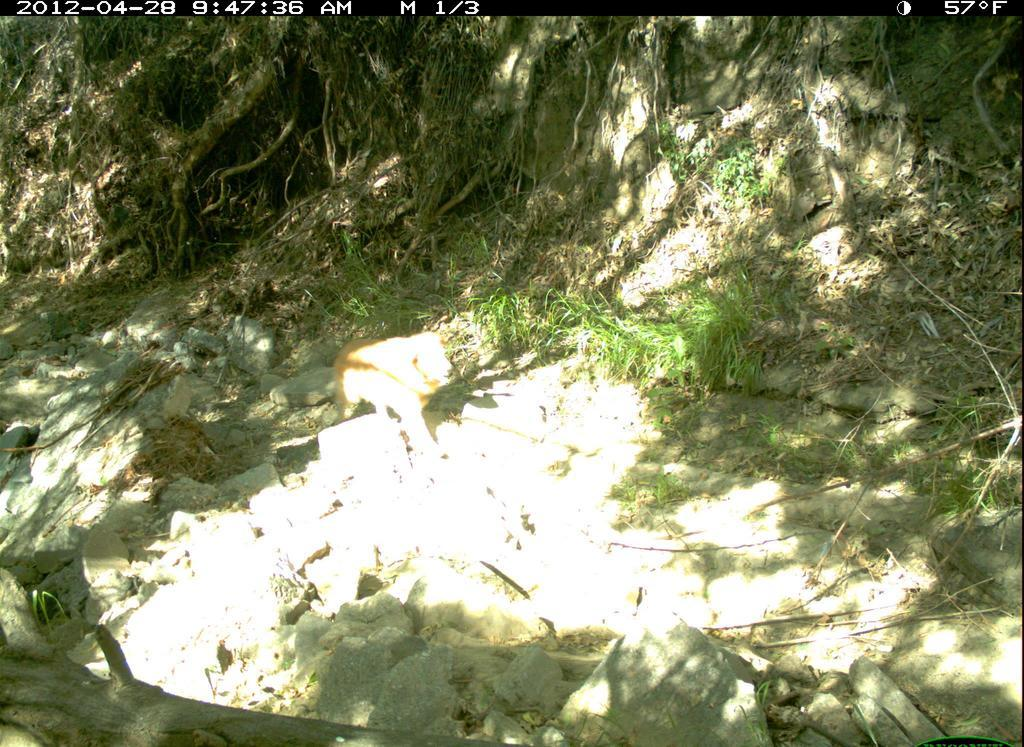dog: (322, 327, 465, 469)
